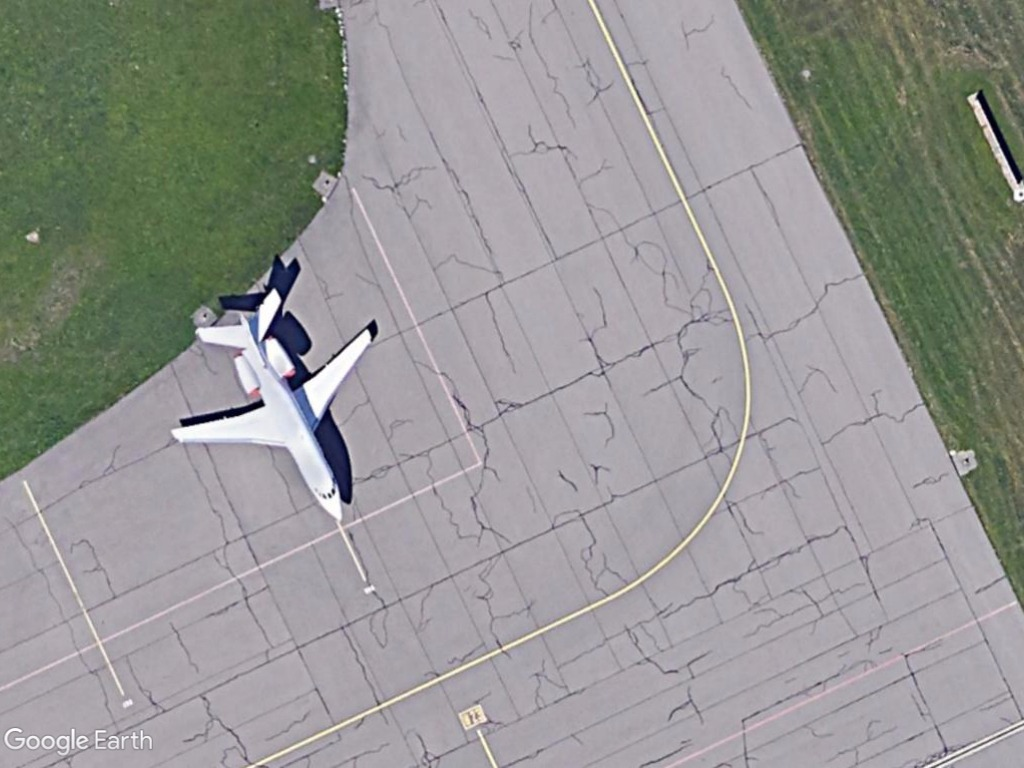chartered: (166, 285, 381, 527)
